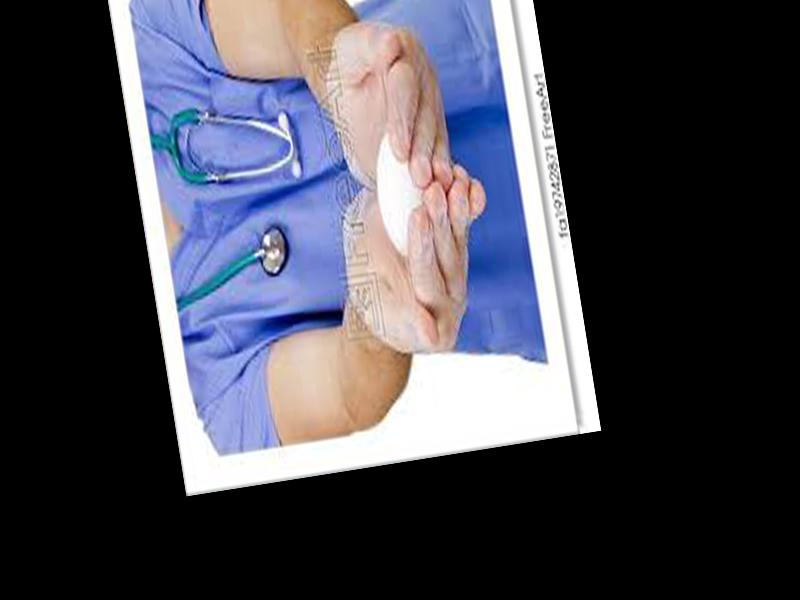Eggs: (367, 127, 434, 255)
